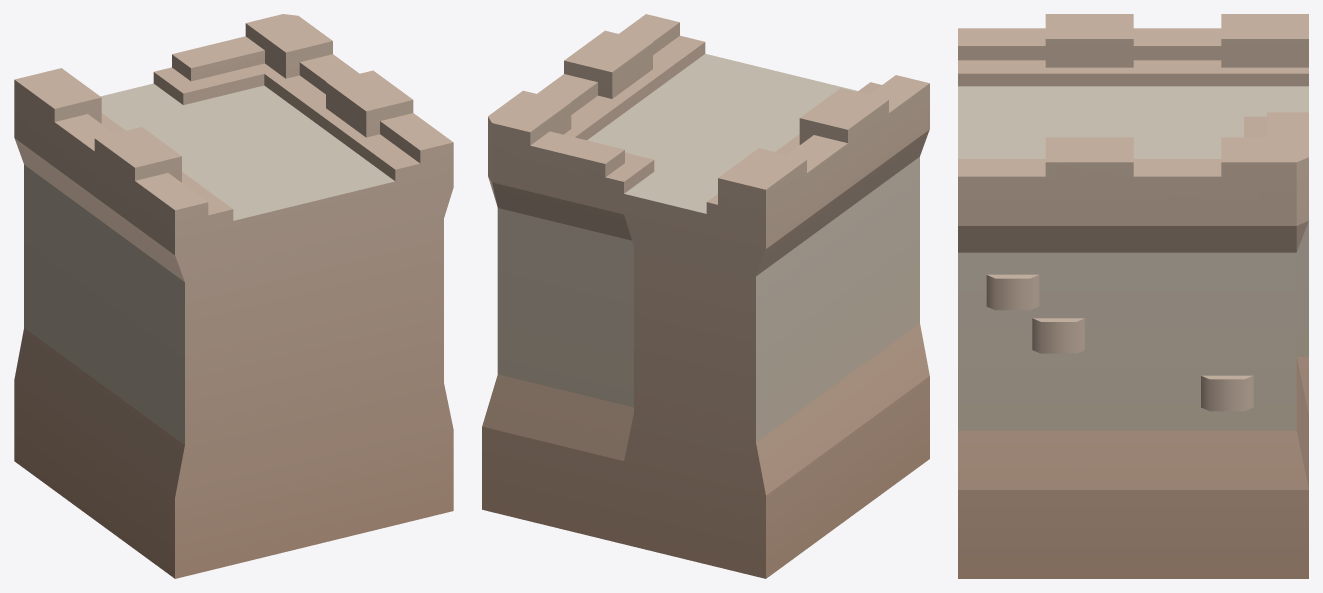
Rendered from wall-to-narrow.glb.
The picture shows the model from 3 angles, left to right: view 1: azimuth 30°, elevation 25°; view 2: azimuth 150°, elevation 25°; view 3: azimuth 270°, elevation 25°; orthographic projection. The views are drawn at different scales.
Visible parts, largest first — view 1: wall-to-narrow; view 2: wall-to-narrow; view 3: wall-to-narrow.
Boxes of the visible parts, box(x1,y1,x2,y2) form: wall-to-narrow: box(14, 14, 453, 578); wall-to-narrow: box(482, 14, 929, 578); wall-to-narrow: box(958, 14, 1308, 578).
Size of the model in its own units: 1 by 1.31 by 1.
